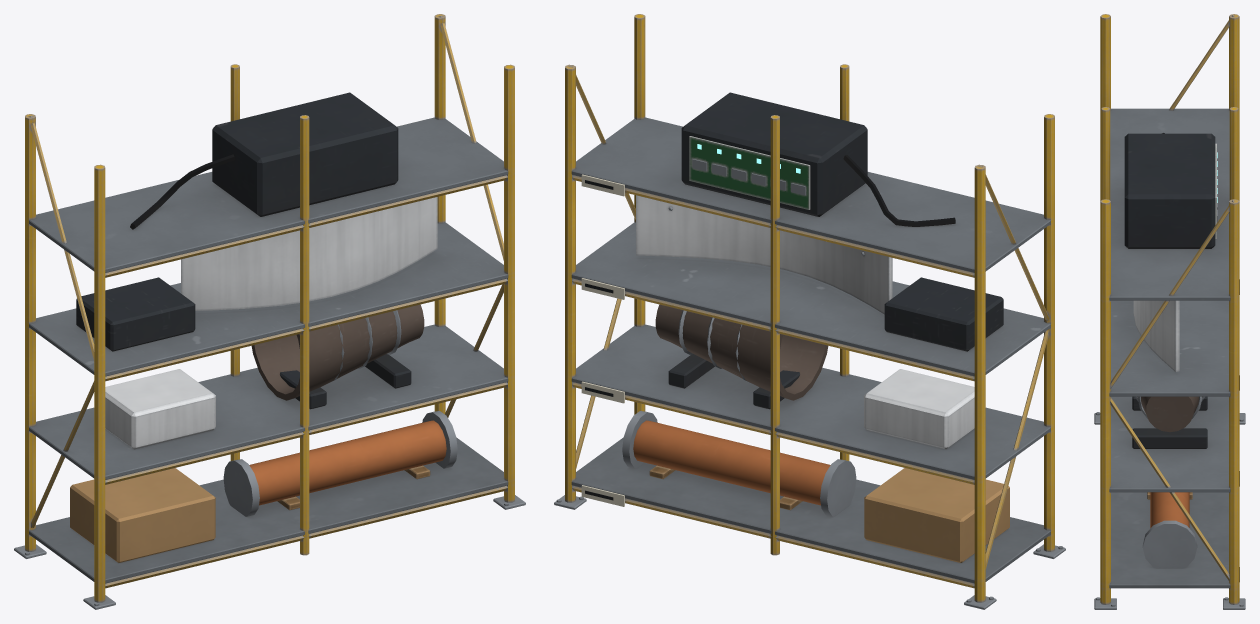
File: rack_piezas_nave.fbx
3 views of the same model, side by side, from view 1: azimuth 30°, elevation 25°; view 2: azimuth 150°, elevation 25°; view 3: azimuth 270°, elevation 25° (orthographic). The views are drawn at different scales.
Visible parts, largest first — view 1: rack_piezas_nave; view 2: rack_piezas_nave; view 3: rack_piezas_nave.
Boxes of the visible parts, x1=… form: rack_piezas_nave: x1=14, y1=14, x2=525, y2=609; rack_piezas_nave: x1=554, y1=14, x2=1065, y2=609; rack_piezas_nave: x1=1094, y1=14, x2=1245, y2=609.
Bounding box in the file's own units: 6.1 × 5.91 × 2.
Materials: 2 (1 with a texture image).
